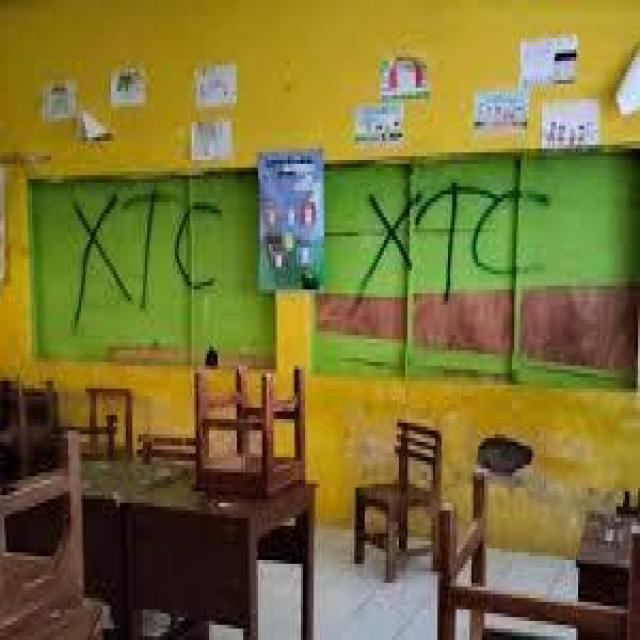nonspitting: (357, 183, 552, 306), (70, 190, 224, 336)
